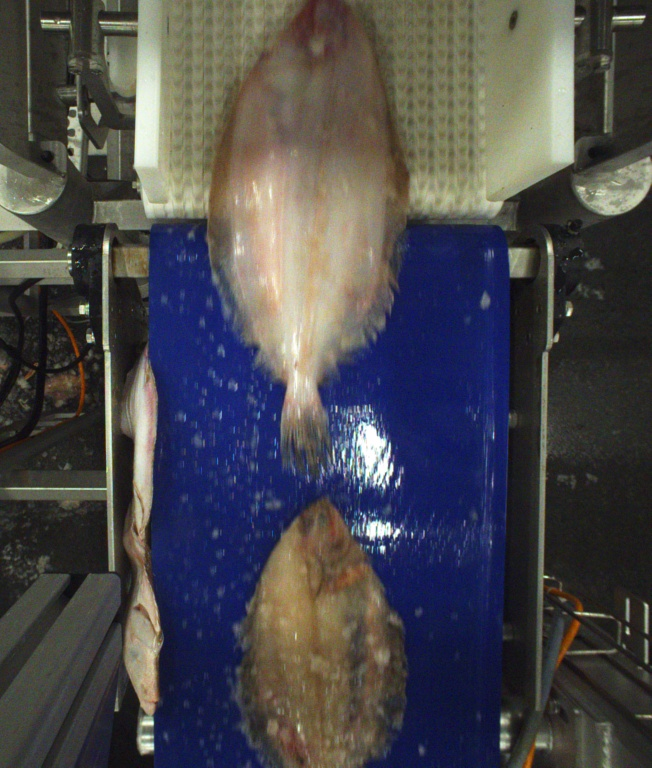WIT: (199, 0, 410, 475)
